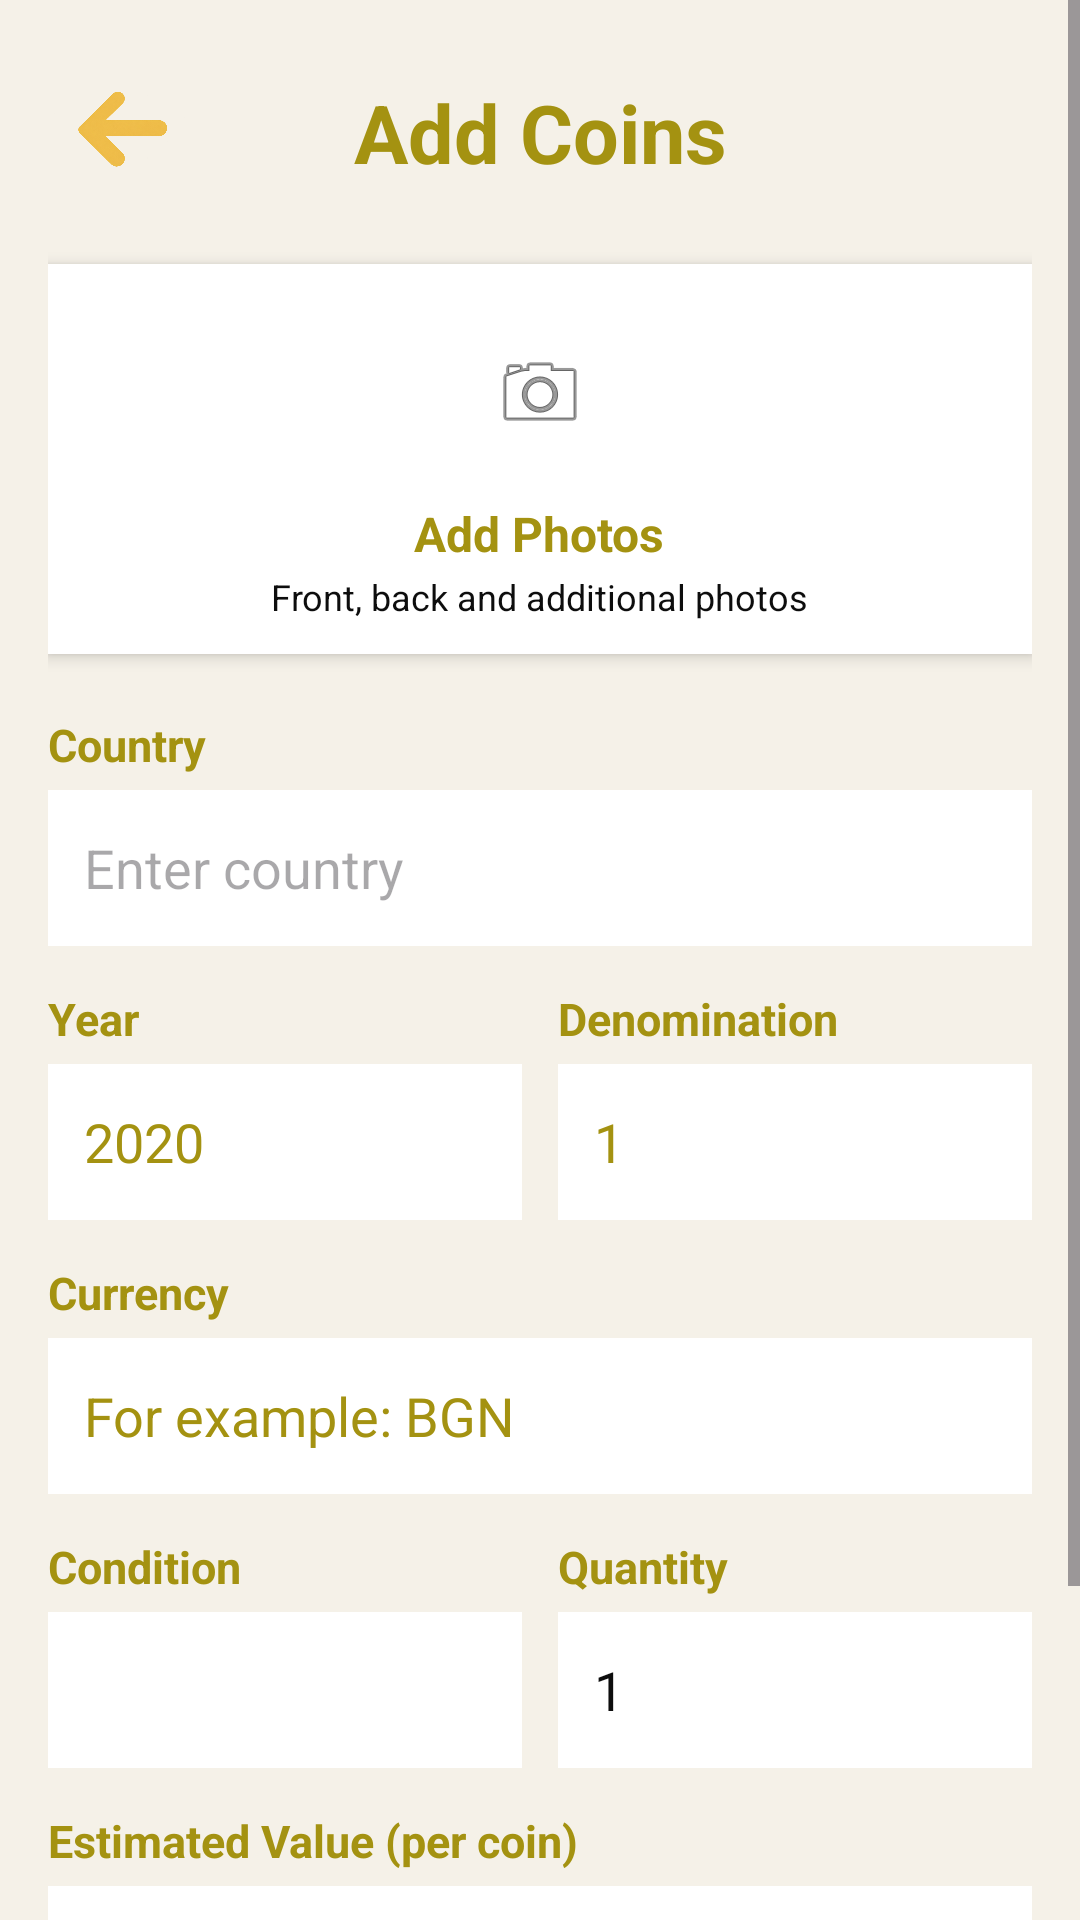

Screen size 1080×1920. Icon name, then its center in pixels as (x,y):
Back: (122,129)
